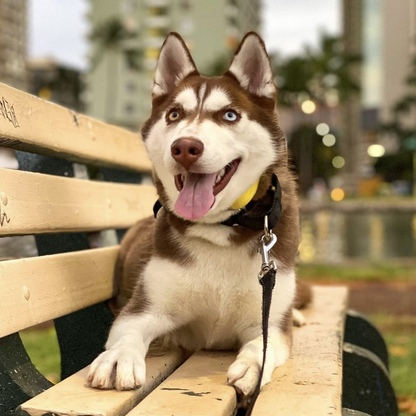husky: (83, 28, 318, 402)
